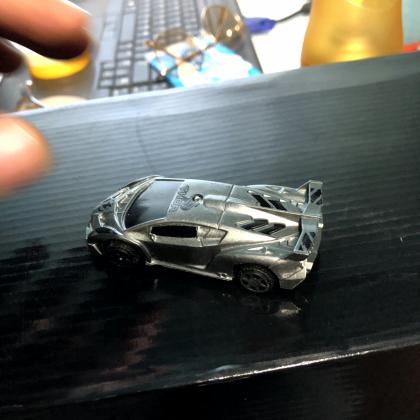Car: (79, 167, 329, 300)
